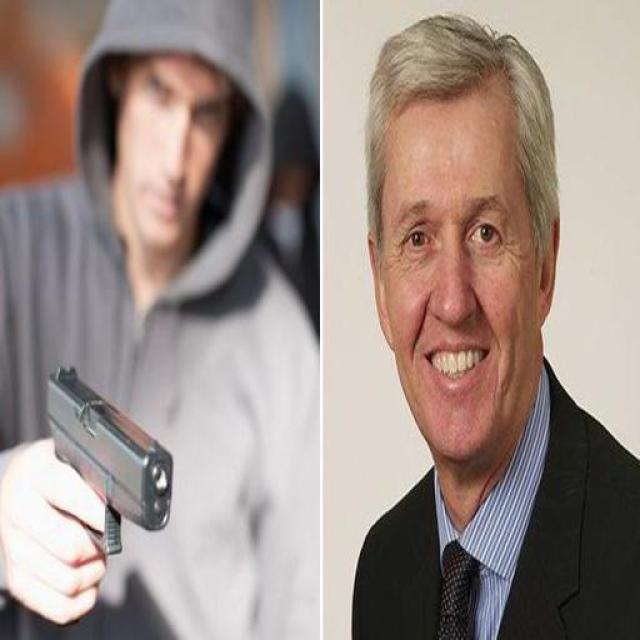pistol: (43, 364, 174, 558)
